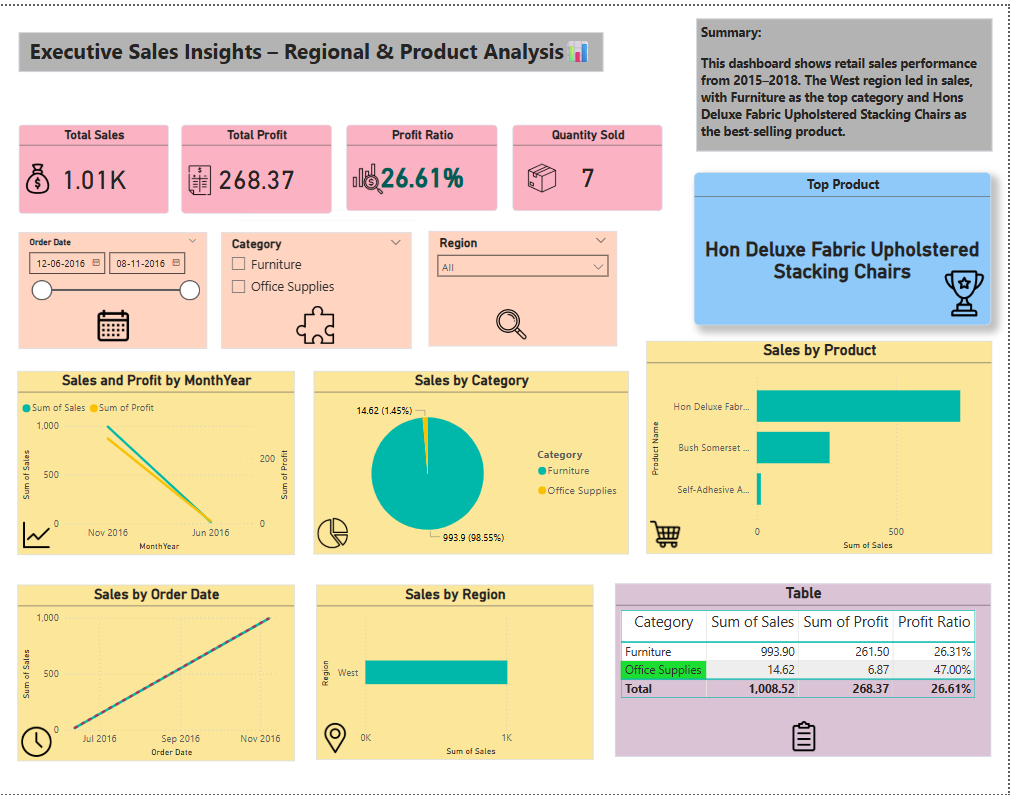

Layout of this report page (visuals, bound fields, positions):
{"tool":"powerbi","page":{"name":"Page 1","canvas":[1280,1000],"ordinal":0},"visuals":[{"type":"card","title":"Total Sales","fields":{"Values":["Sum(Sheet1.Sales)"]},"box":[24.1,150,190.7,113],"z":0},{"type":"card","title":"Total Profit","fields":{"Values":["Sum(Sheet1.Profit)"]},"box":[230,150,191.1,112.4],"z":1000,"group":"g1"},{"type":"barChart","title":"Sales by Region","fields":{"Category":["Sheet1.Region"],"Y":["Sum(Sheet1.Sales)"]},"box":[402.3,735.2,351.9,222.1],"z":2000},{"type":"pieChart","title":"Sales by Category","fields":{"Category":["Sheet1.Category"],"Y":["Sum(Sheet1.Sales)"]},"box":[398.1,463,400,232.6],"z":3000},{"type":"slicer","fields":{"Values":["Sheet1.Region"]},"box":[545.2,286.4,238.9,146.3],"z":4000},{"type":"lineChart","title":"Sales and Profit by MonthYear","fields":{"Y":["Sum(Sheet1.Sales)"],"Category":["Sheet1.MonthYear"],"Y2":["Sum(Sheet1.Profit)"]},"box":[22.2,463,351.9,233.3],"z":5000},{"type":"card","title":"Profit Ratio","fields":{"Values":["Sheet1.Profit Ratio"]},"box":[439.1,150,192.4,109.3],"z":6000},{"type":"card","title":"Quantity Sold","fields":{"Values":["Sum(Sheet1.Quantity)"]},"box":[650,150,190.7,109.3],"z":7000},{"type":"slicer","fields":{"Values":["Sheet1.Order Date"]},"box":[24.1,287,238.9,148.1],"z":8000},{"type":"clusteredBarChart","title":"Sales by Product","fields":{"Category":["Sheet1.Product Name"],"Y":["Sum(Sheet1.Sales)"]},"box":[820.5,425.9,439.1,270],"z":9000},{"type":"card","title":"Top Product","fields":{"Values":["Sheet1.TopProduct"]},"box":[881.5,211.1,377.8,194.4],"z":10000},{"type":"slicer","fields":{"Values":["Sheet1.Category"]},"box":[281.5,287,241.9,148.1],"z":11000},{"type":"lineChart","title":"Sales by Order Date","fields":{"Y":["Sum(Sheet1.Sales)"],"Category":["Sheet1.Order Date"]},"box":[22.6,735.2,351.9,224],"z":11000},{"type":"group","id":"g1","title":"Group 13","box":[229.6,150,192.6,111.1],"z":12000},{"type":"tableEx","title":"Table","fields":{"Values":["Sheet1.Category","Sum(Sheet1.Sales)","Sum(Sheet1.Profit)","Sheet1.Profit Ratio"]},"box":[781.5,733.3,477.8,220],"z":12000},{"type":"image","box":[24.1,185.2,48.1,66.7],"z":13000},{"type":"textbox","box":[24.1,33.3,742.6,50],"z":14000},{"type":"image","box":[229.6,186.1,47,67.3],"z":14000,"group":"g1"},{"type":"textbox","box":[883.3,16.7,375.9,168.5],"z":14001},{"type":"image","box":[438.9,194.4,55.6,51.9],"z":15000},{"type":"image","box":[664.8,185.2,46.3,64.8],"z":16000},{"type":"image","box":[1190.7,325.9,68.5,79.6],"z":17000},{"type":"image","box":[118.5,375.9,50,59.3],"z":18000},{"type":"image","box":[370.4,375.9,61.1,57.4],"z":19000},{"type":"image","box":[625.9,379.6,48.1,50],"z":20000},{"type":"image","box":[22.2,644.4,48.1,53.7],"z":21000},{"type":"image","box":[820.4,645.2,48.5,53],"z":22000},{"type":"image","box":[401.9,903.2,48,53],"z":23000},{"type":"image","box":[22.2,907.5,48,53],"z":23000},{"type":"image","box":[399,643.1,48,53],"z":24000},{"type":"image","box":[996.3,900,48.1,53.7],"z":25000}]}

Visuals, with their boxes in screenshot pixels (x1, y1, x2, y2), scaled from the page's 1280x1000 canvas onto the 1013x795 screenshot:
"Total Sales" card: (x1=19, y1=119, x2=170, y2=209)
"Total Profit" card: (x1=182, y1=119, x2=333, y2=209)
"Sales by Region" barChart: (x1=318, y1=584, x2=597, y2=761)
"Sales by Category" pieChart: (x1=315, y1=368, x2=632, y2=553)
slicer - Sheet1.Region: (x1=431, y1=228, x2=621, y2=344)
"Sales and Profit by MonthYear" lineChart: (x1=18, y1=368, x2=296, y2=554)
"Profit Ratio" card: (x1=348, y1=119, x2=500, y2=206)
"Quantity Sold" card: (x1=514, y1=119, x2=665, y2=206)
slicer - Sheet1.Order Date: (x1=19, y1=228, x2=208, y2=346)
"Sales by Product" clusteredBarChart: (x1=649, y1=339, x2=997, y2=553)
"Top Product" card: (x1=698, y1=168, x2=997, y2=322)
slicer - Sheet1.Category: (x1=223, y1=228, x2=414, y2=346)
"Sales by Order Date" lineChart: (x1=18, y1=584, x2=296, y2=763)
"Group 13" group: (x1=182, y1=119, x2=334, y2=208)
"Table" tableEx: (x1=618, y1=583, x2=997, y2=758)
image: (x1=19, y1=147, x2=57, y2=200)
textbox: (x1=19, y1=26, x2=607, y2=66)
image: (x1=182, y1=148, x2=219, y2=201)
textbox: (x1=699, y1=13, x2=997, y2=147)
image: (x1=347, y1=155, x2=391, y2=196)
image: (x1=526, y1=147, x2=563, y2=199)
image: (x1=942, y1=259, x2=997, y2=322)
image: (x1=94, y1=299, x2=133, y2=346)
image: (x1=293, y1=299, x2=341, y2=344)
image: (x1=495, y1=302, x2=533, y2=342)
image: (x1=18, y1=512, x2=56, y2=555)
image: (x1=649, y1=513, x2=688, y2=555)
image: (x1=318, y1=718, x2=356, y2=760)
image: (x1=18, y1=721, x2=56, y2=764)
image: (x1=316, y1=511, x2=354, y2=553)
image: (x1=788, y1=716, x2=827, y2=758)
